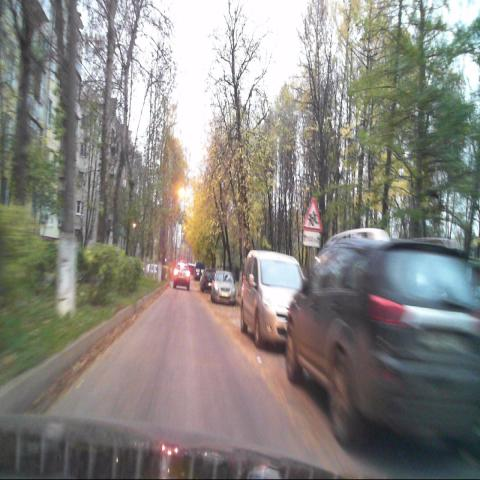1_23: (303, 198, 322, 232)
8_2_1: (302, 231, 321, 248)
